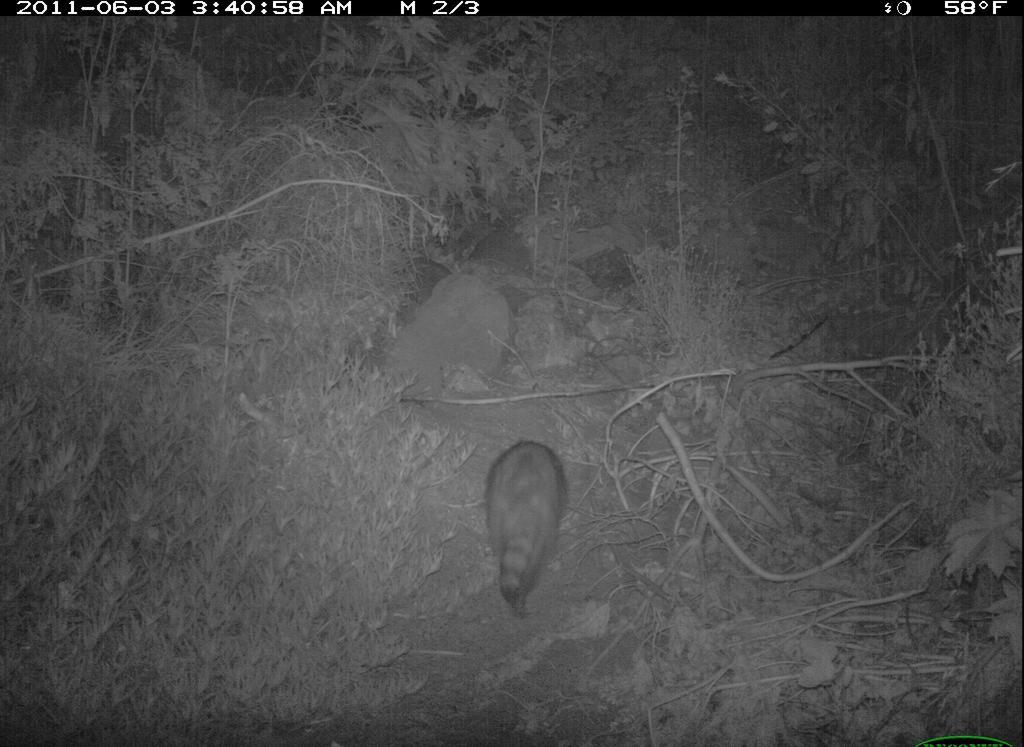raccoon: (474, 427, 578, 620)
